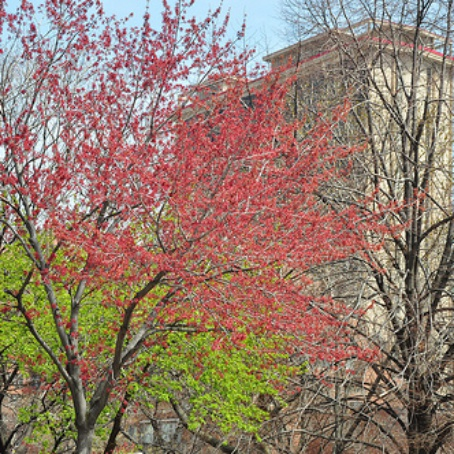tree: (1, 38, 338, 454), (299, 1, 454, 449)
